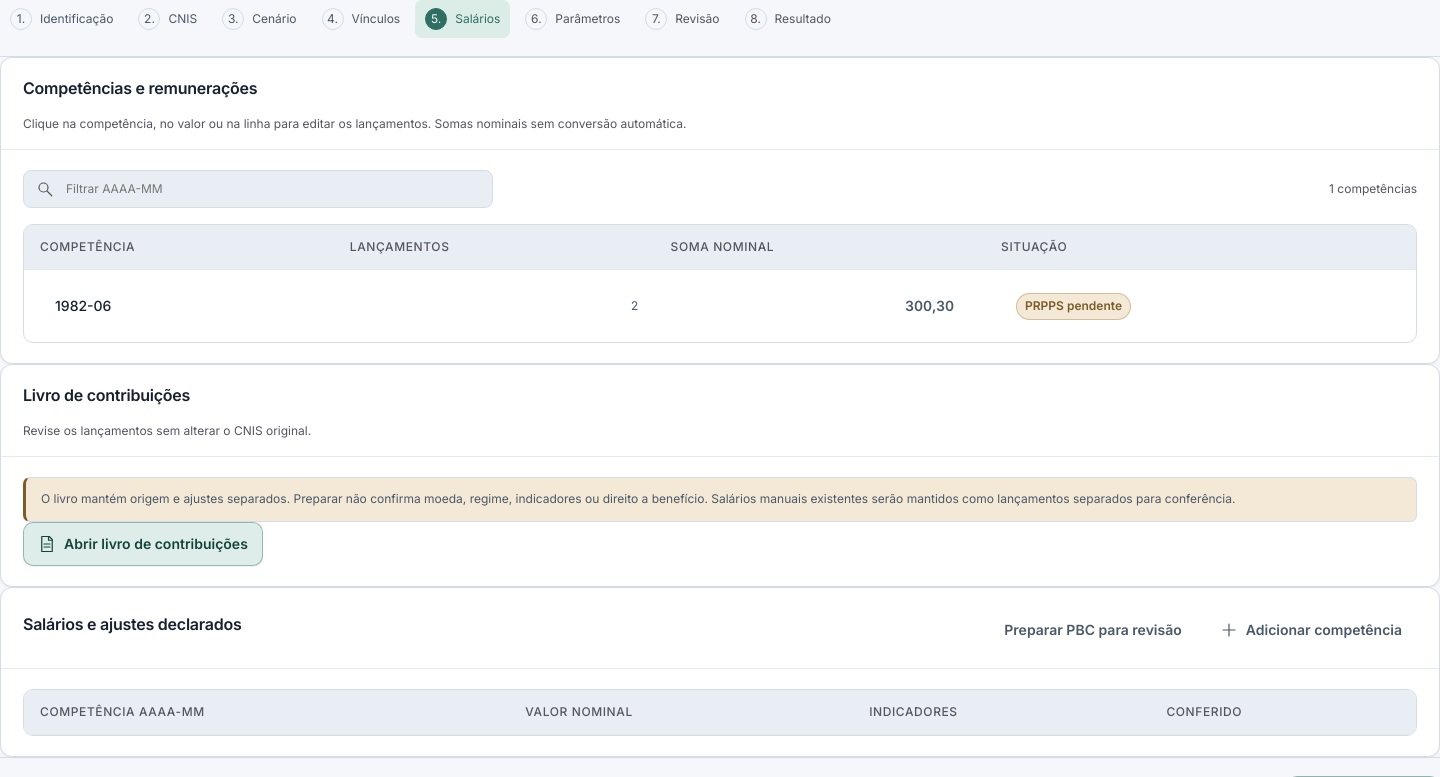
Test case: direct source editing › clicking a historical amount selects its individual entries without summing them into one edit
The image size is (1440, 777).
Click the button named "Editar remunerações de 1982-06".
click(930, 306)  # box [890,284,969,328]
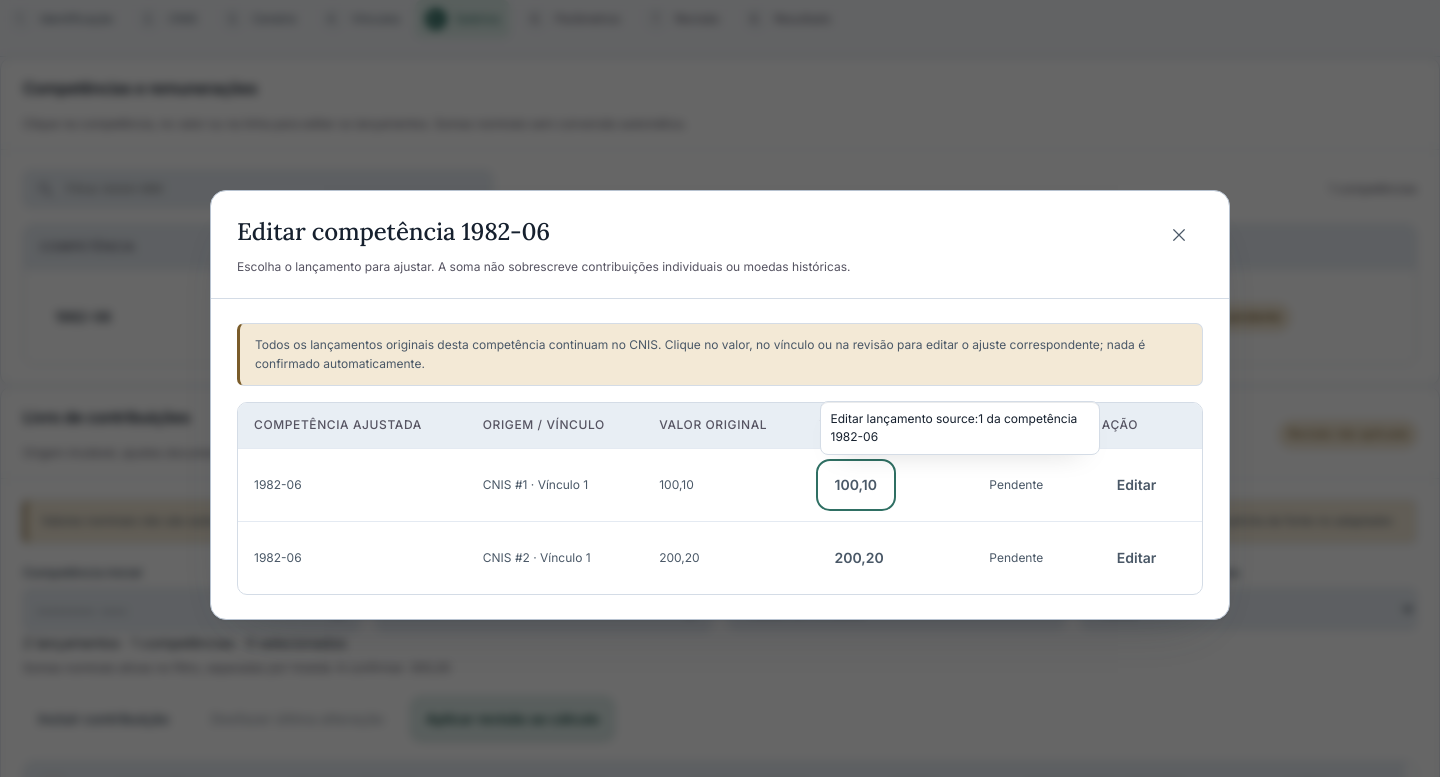
Now the button named "Editar lançamento source:1 da competência 1982-06" reads "100,10"
Now the button named "Editar lançamento source:2 da competência 1982-06" reads "200,20", box [820,536,899,580]
Click the button named "Editar lançamento source:1 da competência 1982-06".
click(856, 485)  # box [820,463,892,507]
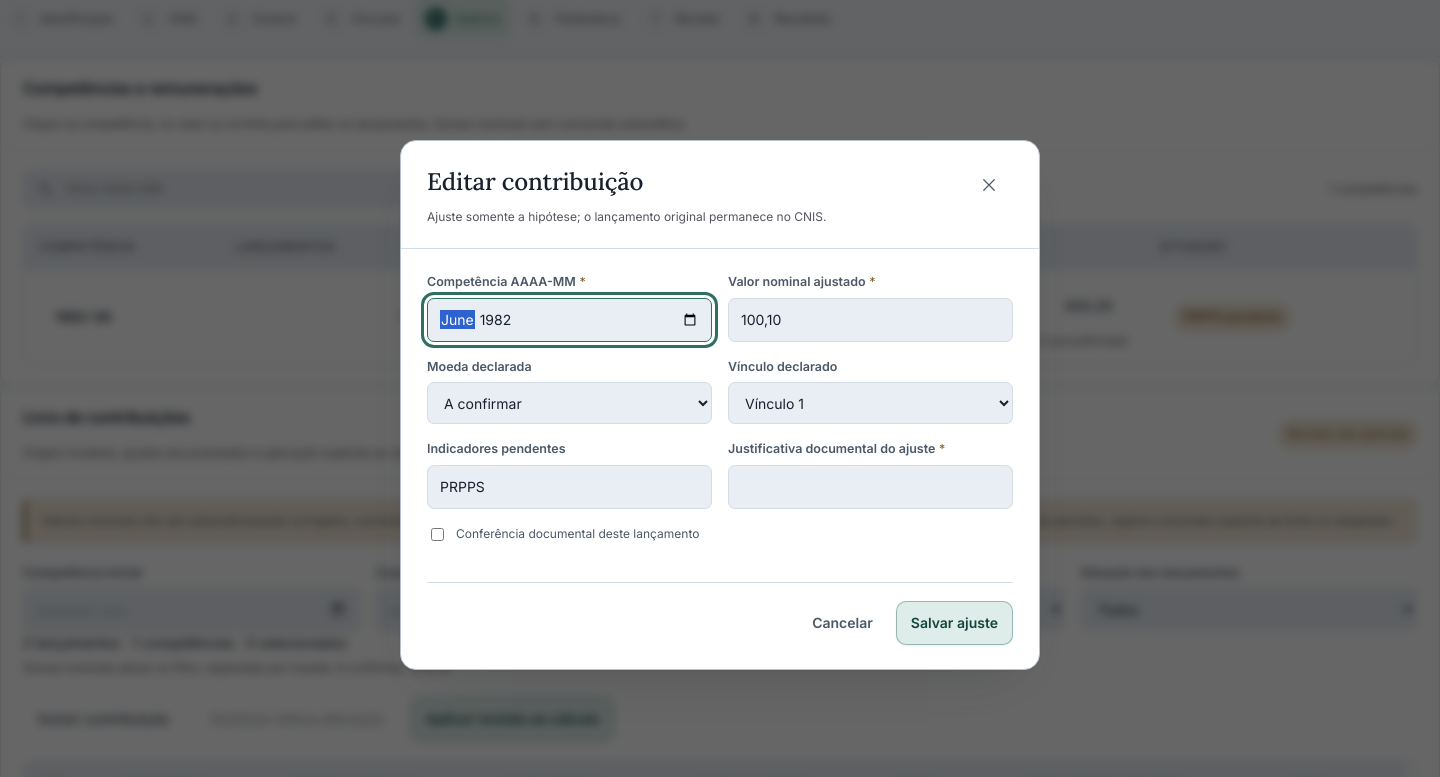
Replace the text in the field labelled "Valor nominal ajustado" with "101,11" at point(870, 320), box [728,298,1013,342]
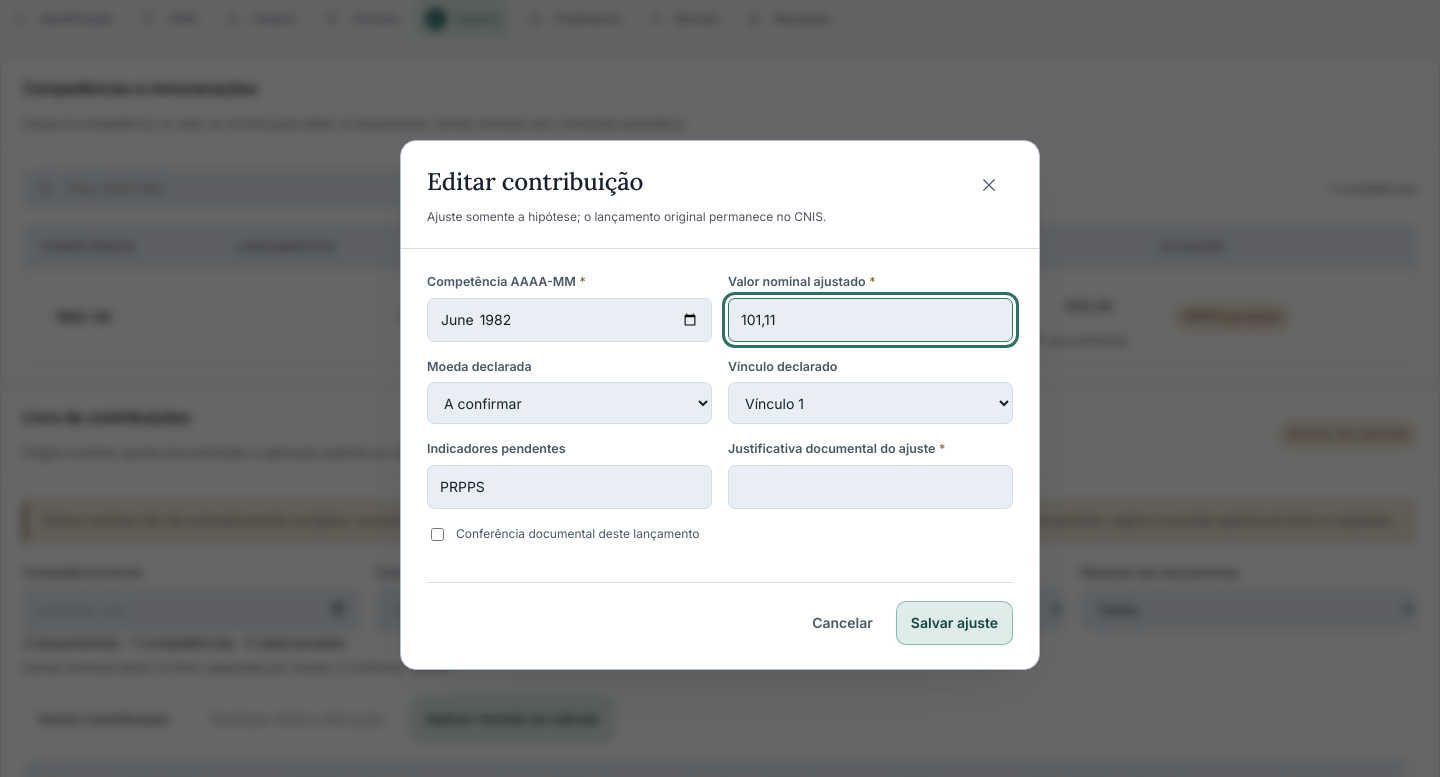
Type "Retificação histórica fictícia" into the field labelled "Justificativa documental do ajuste".
click(870, 487); type("Retificação histórica fictícia")  # box [728,465,1013,509]
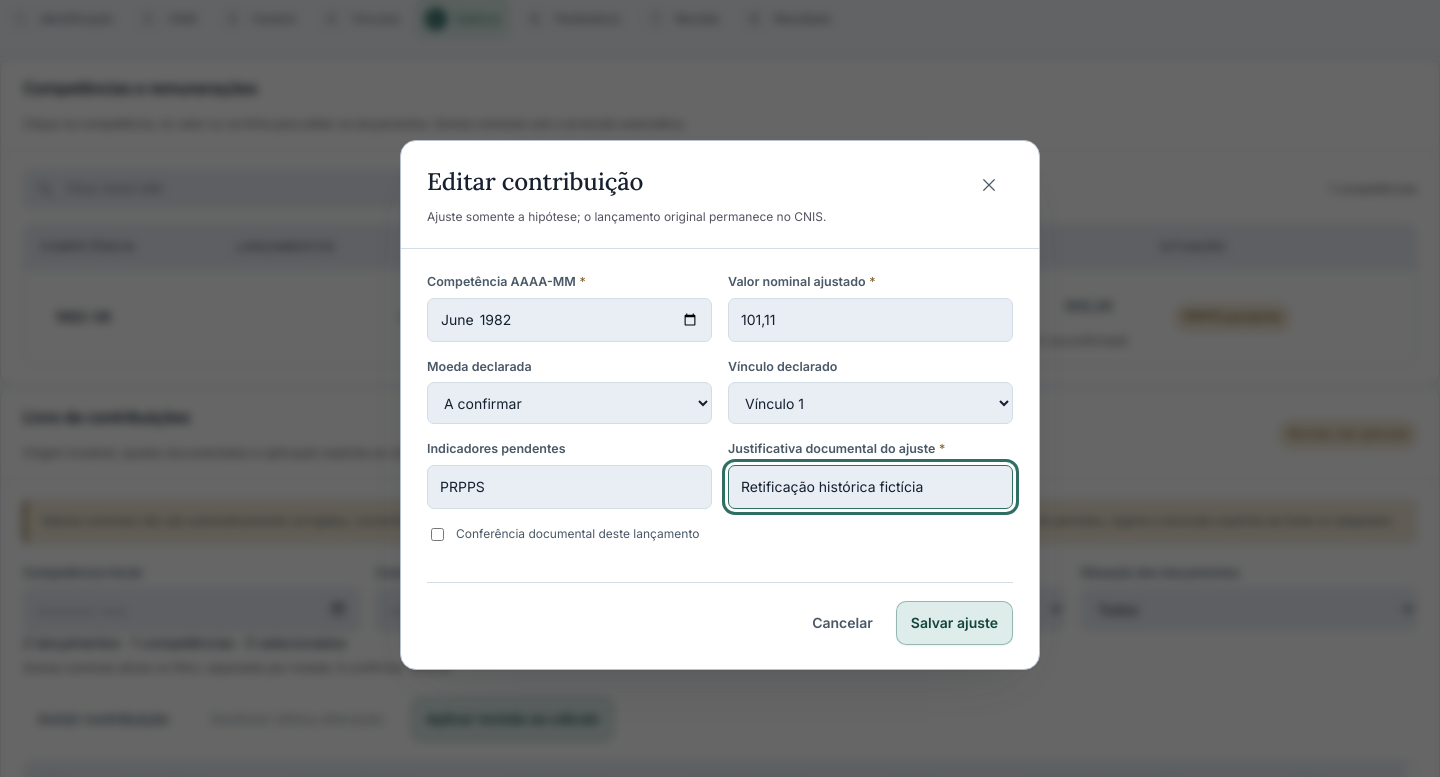
Click the button "Salvar ajuste".
click(954, 623)  # box [896,601,1013,645]
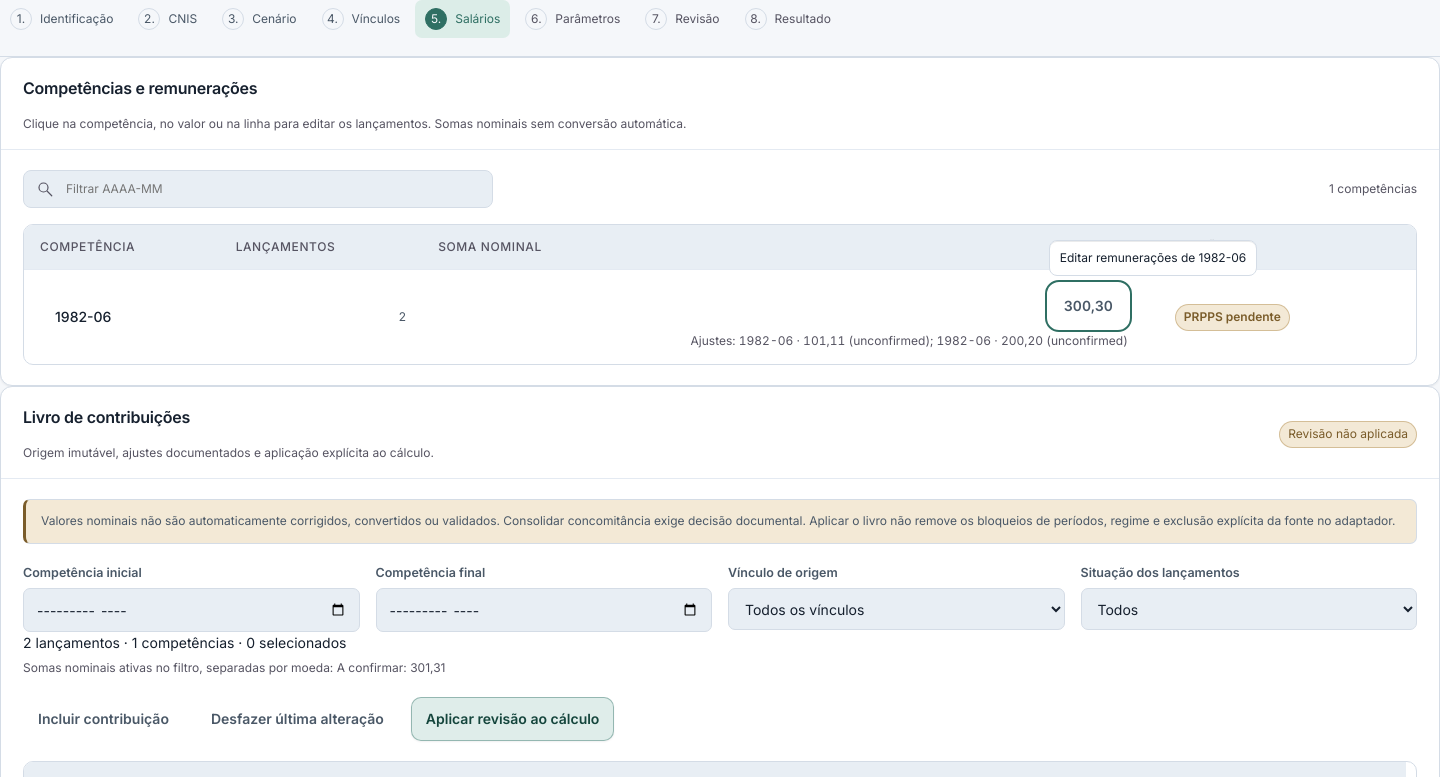
Expected: the heading "Competências e remunerações" is shown, [23,78,257,99]
Click the button named "Editar competência 1982-06".
click(83, 317)  # box [40,295,126,339]
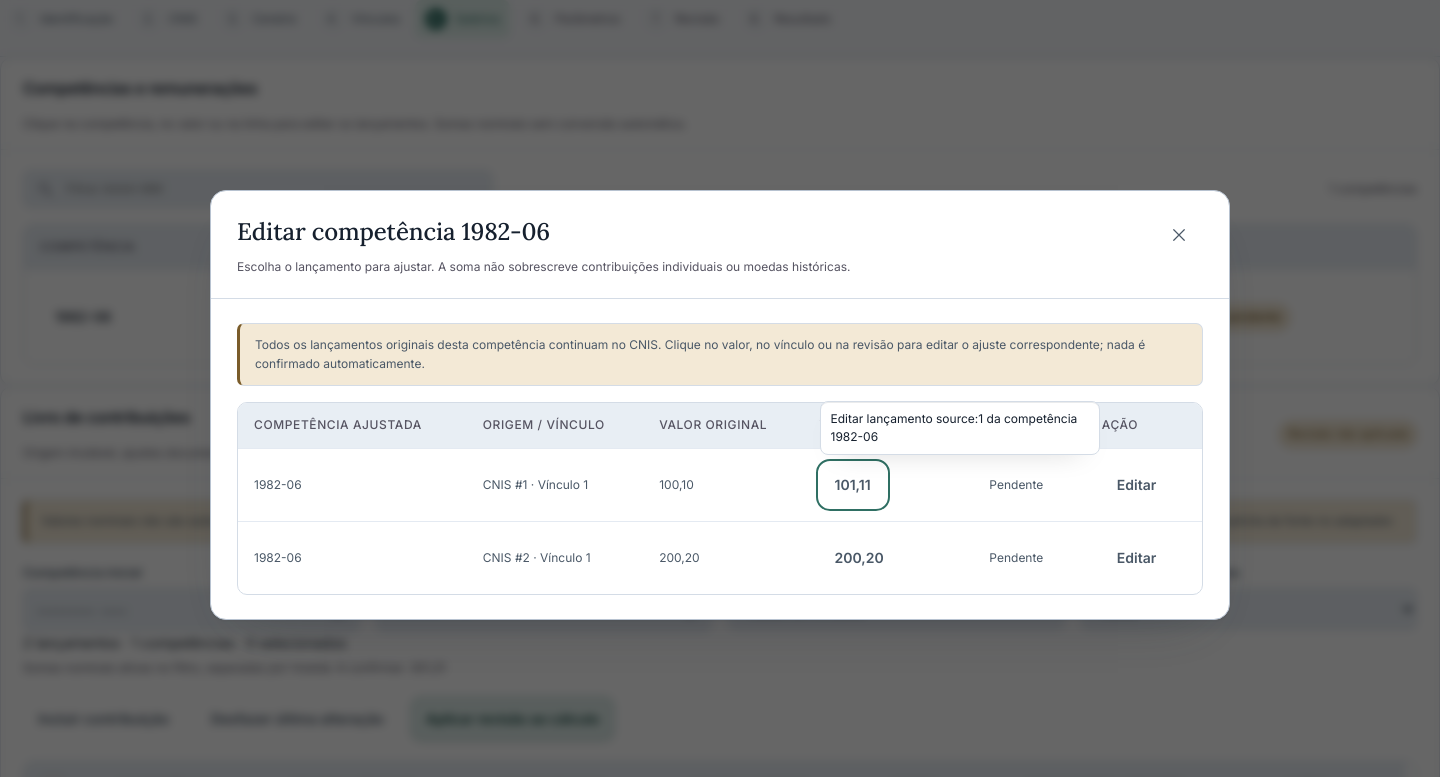
Now the dialog "Editar competência 1982-06" is shown, box [210,190,1230,620]
